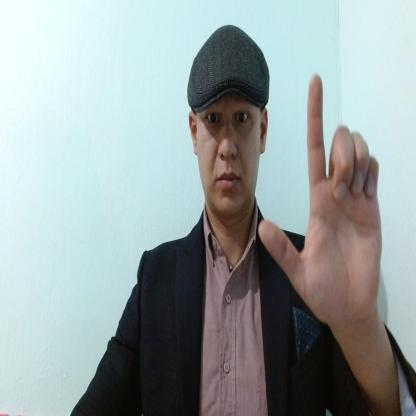L: (258, 75, 382, 326)
